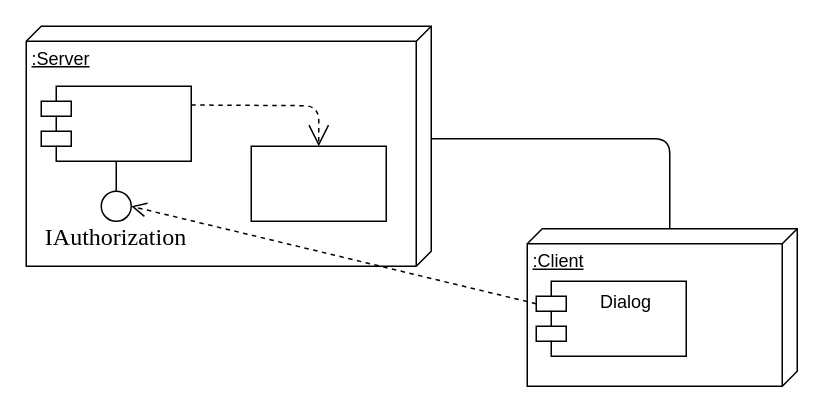
This 824x413 diagram has some shape labels left out. The centre of each missing label's shape, as x and y in pixels:
DataBase: (318,183)
Main: (115,123)
